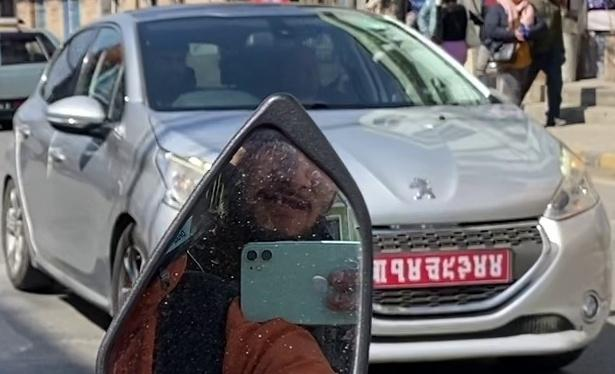license-plate: (350, 246, 518, 293)
